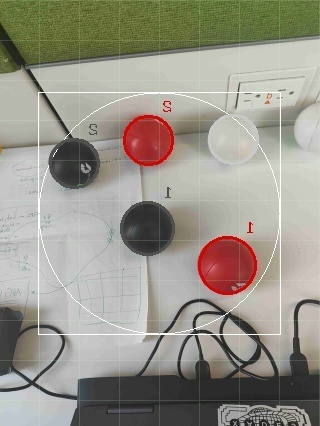Pelota blanca: (175, 297, 273, 381), (13, 323, 68, 387), (0, 385, 79, 425), (207, 113, 262, 166), (292, 297, 320, 376), (292, 100, 320, 152)
Pelota negra: (119, 198, 177, 256), (47, 137, 103, 190)
Pelota roja: (197, 233, 260, 296), (122, 113, 177, 168)
